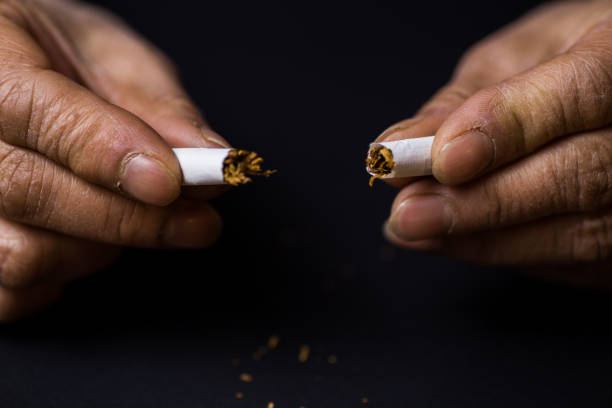cigarette: (169, 136, 281, 187), (364, 135, 436, 188)
